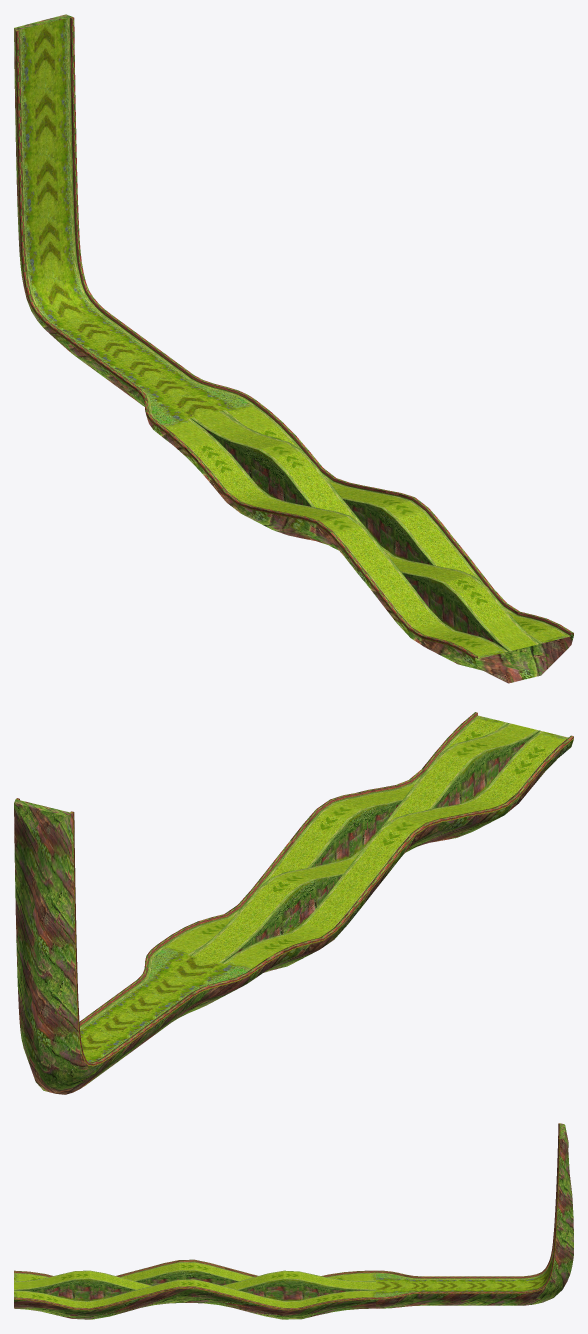
File: Frog Forest 6.fbx
The picture shows the model from 3 angles, top to bottom: view 1: azimuth 30°, elevation 25°; view 2: azimuth 150°, elevation 25°; view 3: azimuth 270°, elevation 25°; orthographic projection. The views are drawn at different scales.
Visible parts, largest first — view 1: Object_2.006, Object_2.007; view 2: Object_2.007, Object_2.006; view 3: Object_2.007, Object_2.006.
Part boxes in pixels (bbox=[...]): Object_2.006: bbox=[19, 17, 570, 658]; Object_2.007: bbox=[14, 14, 573, 683]; Object_2.007: bbox=[14, 712, 573, 1094]; Object_2.006: bbox=[80, 715, 568, 1062]; Object_2.007: bbox=[14, 1123, 573, 1319]; Object_2.006: bbox=[14, 1124, 560, 1308].
Bounding box in the file's own units: 19067 × 59472 × 164051.
